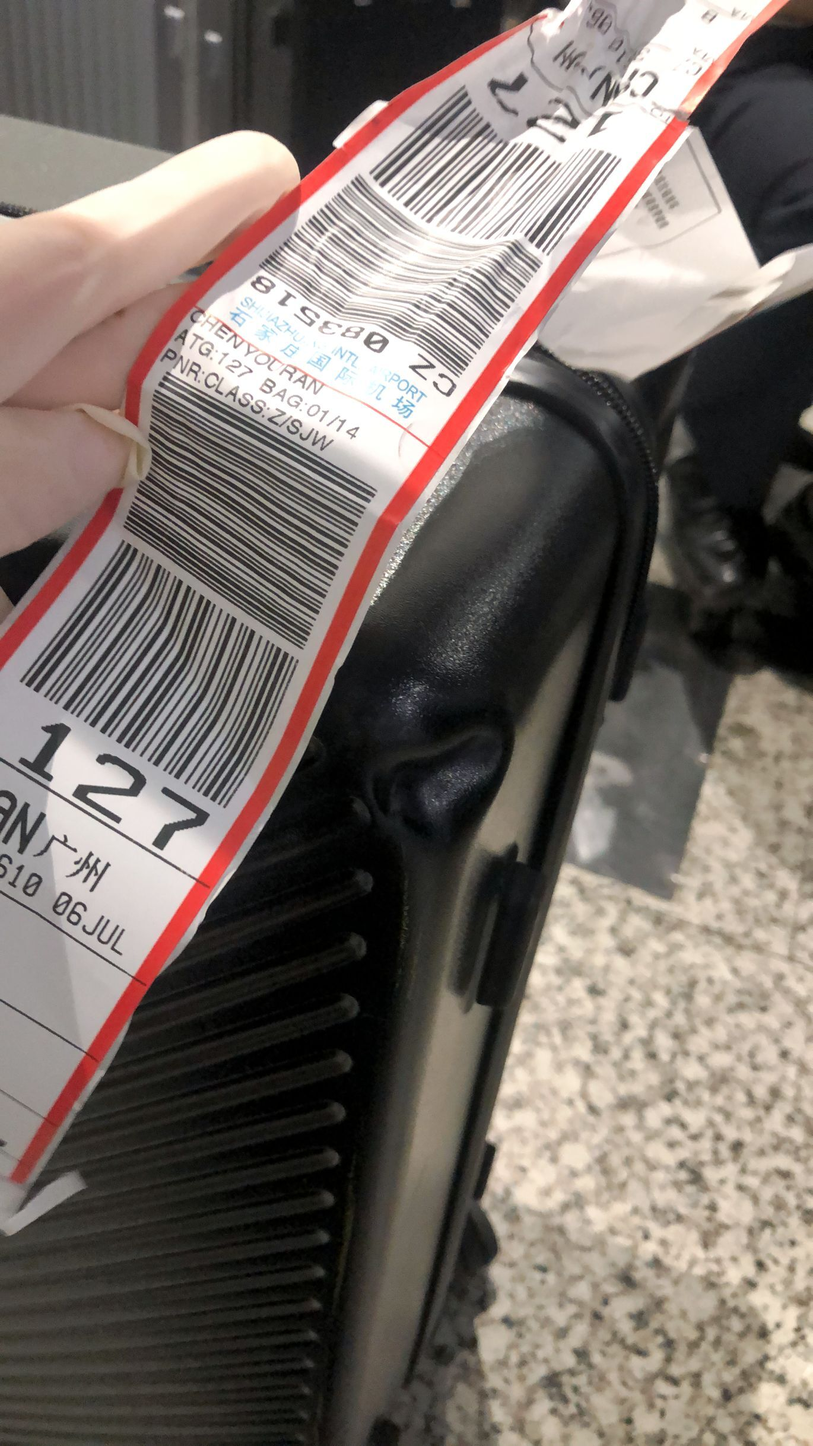rupture: (371, 727, 506, 835)
